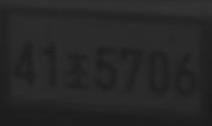0: (146, 49, 171, 94)
1: (41, 41, 61, 89)
4: (12, 40, 39, 89)
5: (92, 46, 117, 91)
6: (173, 52, 198, 97)
7: (121, 46, 145, 93)
조: (65, 49, 89, 90)
